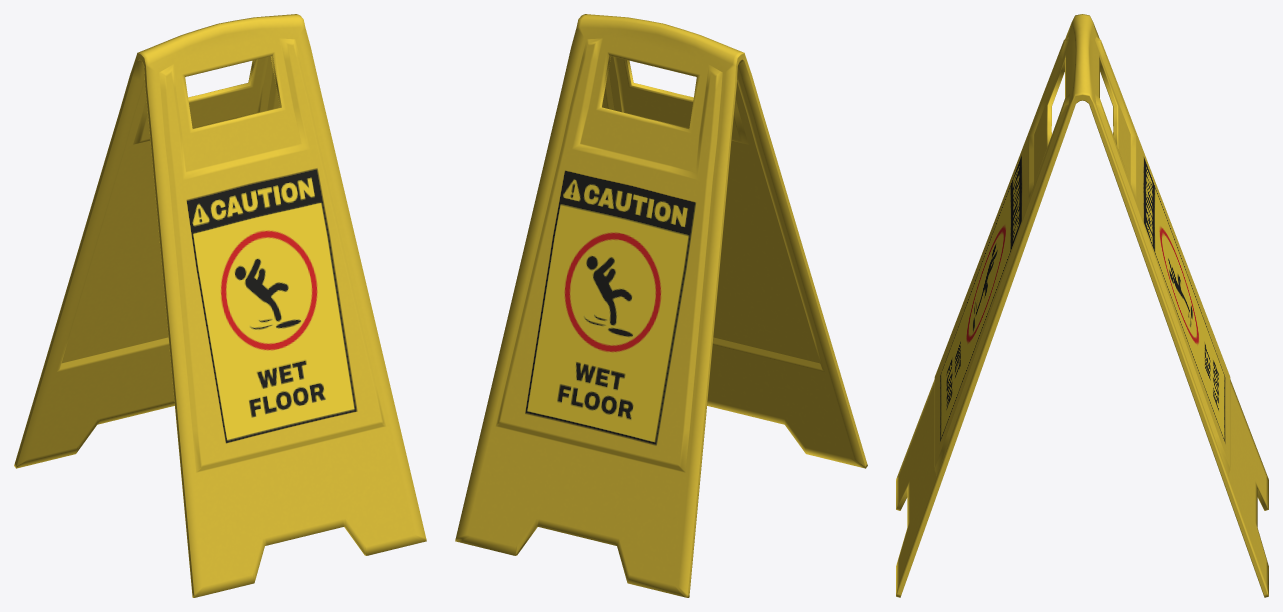
File: Floor_Sign.fbx
3 views of the same model, side by side, from view 1: azimuth 30°, elevation 25°; view 2: azimuth 150°, elevation 25°; view 3: azimuth 270°, elevation 25° (orthographic). The views are drawn at different scales.
Visible parts, largest first — view 1: Floor_Sign; view 2: Floor_Sign; view 3: Floor_Sign.
Part boxes in pixels (bbox=[...]): Floor_Sign: bbox=[14, 14, 426, 597]; Floor_Sign: bbox=[455, 14, 867, 597]; Floor_Sign: bbox=[896, 14, 1268, 597].
Bounding box in the file's own units: 30.18 × 59.68 × 40.65.
